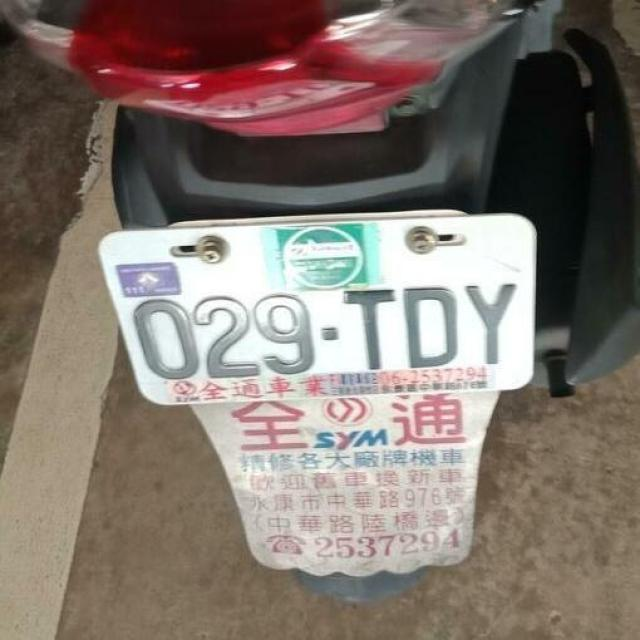W: (84, 191, 546, 420)
